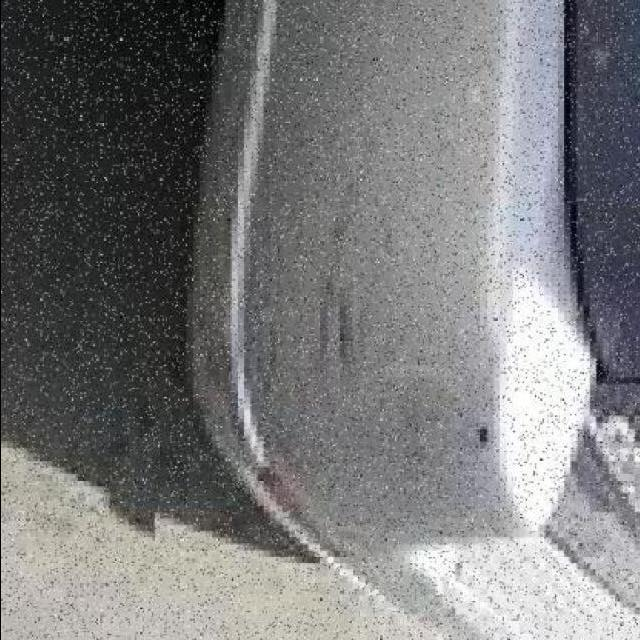rear-bumper-dent: (153, 0, 569, 634)
